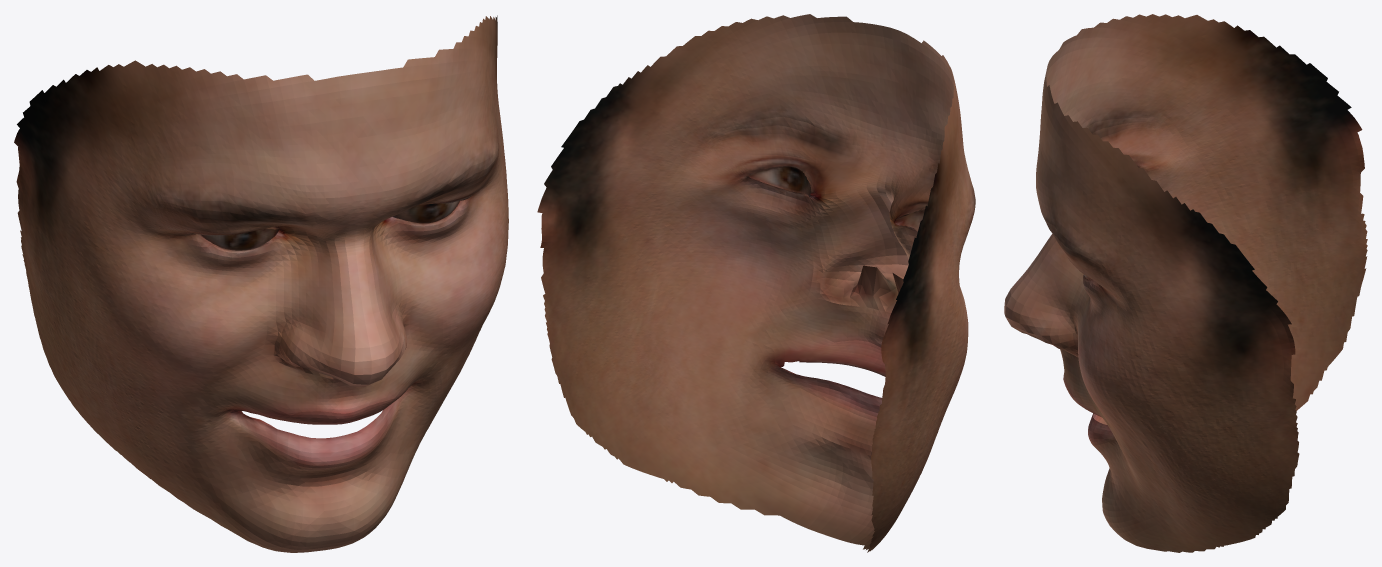
The model's file is generated.photos_v3_0002339_mesh.obj.
3 views of the same model, side by side, from view 1: azimuth 30°, elevation 25°; view 2: azimuth 150°, elevation 25°; view 3: azimuth 270°, elevation 25° (orthographic). The views are drawn at different scales.
Bounding box in the file's own units: 1.45 × 1.68 × 1.18.
